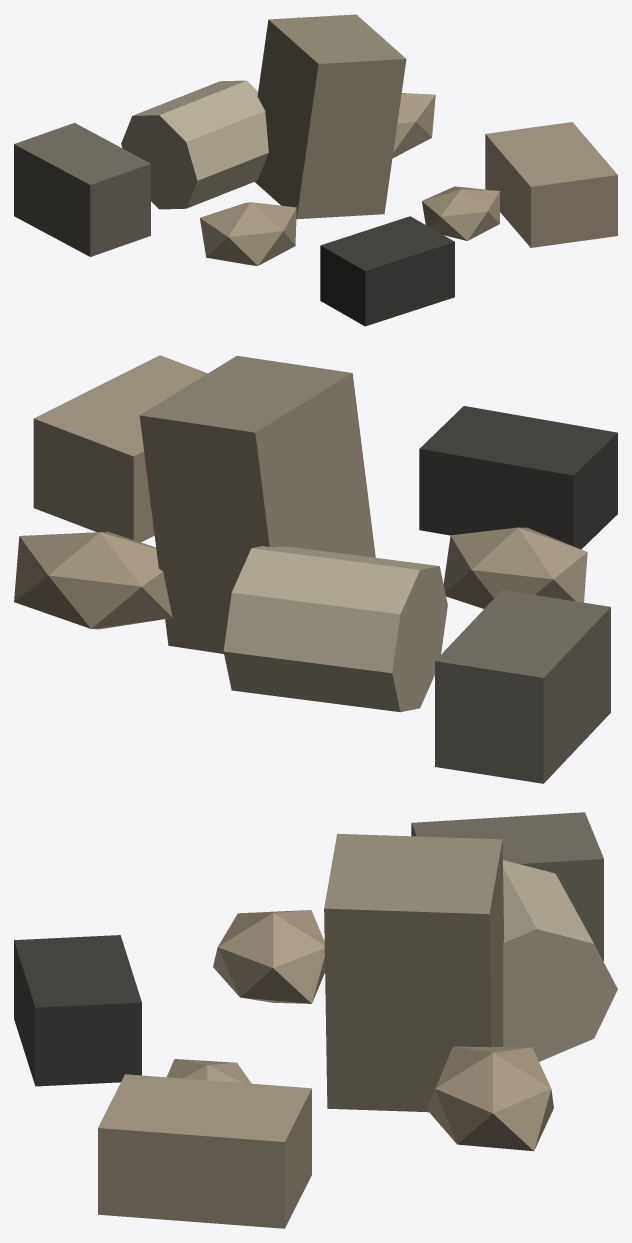
The picture shows the model from 3 angles, top to bottom: view 1: azimuth 30°, elevation 25°; view 2: azimuth 150°, elevation 25°; view 3: azimuth 270°, elevation 25°; orthographic projection. The views are drawn at different scales.
Parts seen in each view (by area): view 1: WK_Stone_A12_RuinRubble_Masonry3m_LOD2; view 2: WK_Stone_A12_RuinRubble_Masonry3m_LOD2; view 3: WK_Stone_A12_RuinRubble_Masonry3m_LOD2.
Boxes of the visible parts, x1,y1,x2,y2 form: WK_Stone_A12_RuinRubble_Masonry3m_LOD2: (14, 14, 617, 326); WK_Stone_A12_RuinRubble_Masonry3m_LOD2: (14, 355, 617, 783); WK_Stone_A12_RuinRubble_Masonry3m_LOD2: (14, 812, 617, 1228).
Bounding box in the file's own units: 3.2 × 1.1 × 2.6.
